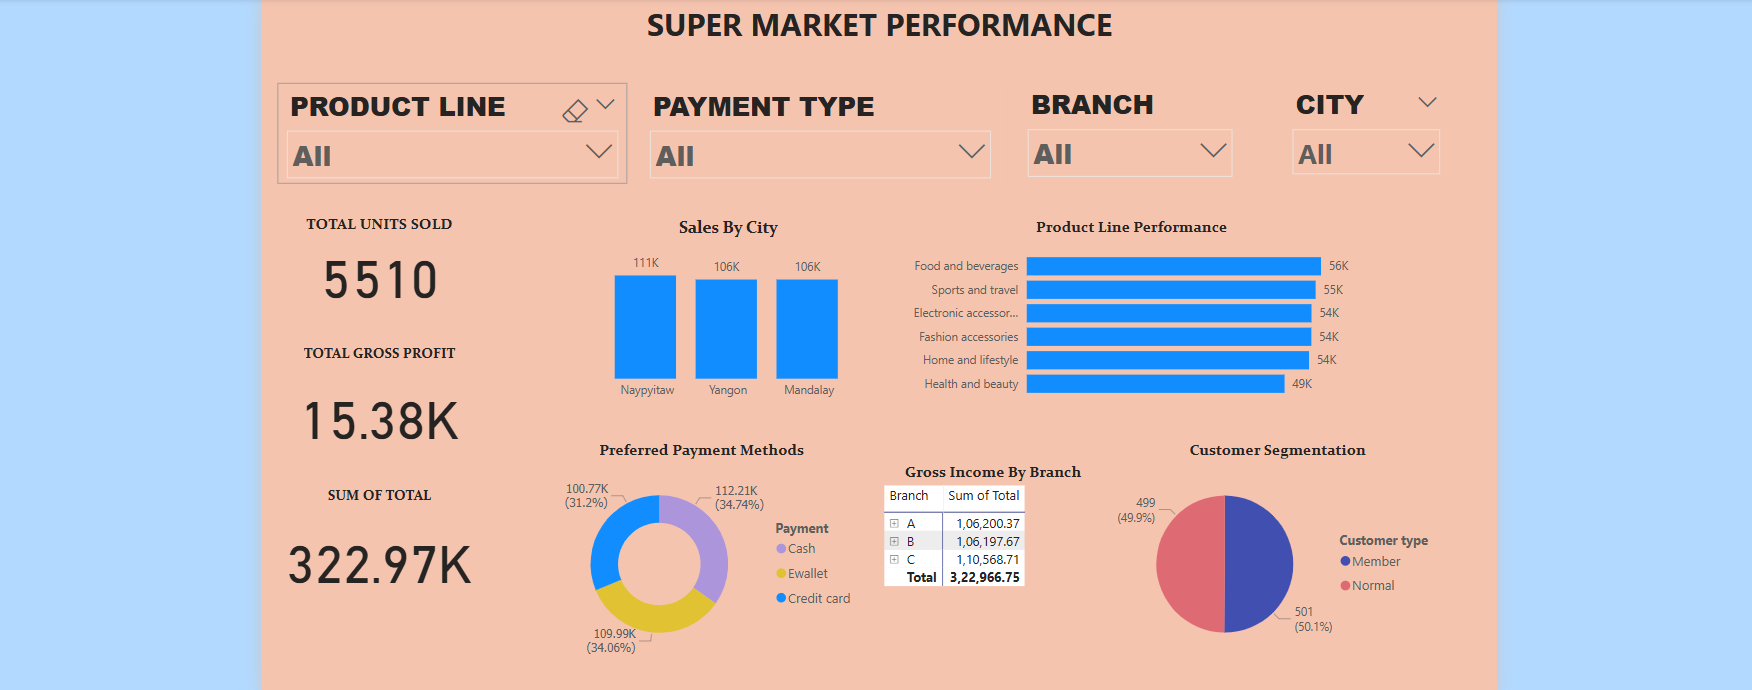

The page's visual inventory and layout, read from the dashboard file:
{"tool":"powerbi","page":{"name":"Page 1","canvas":[1280,720],"ordinal":0},"visuals":[{"type":"slicer","fields":{"Values":["supermarket_sales - Sheet1.City"]},"box":[1057.6,86.4,172.9,108.5],"z":0},{"type":"slicer","fields":{"Values":["supermarket_sales - Sheet1.Branch"]},"box":[784,86,232,104],"z":1000},{"type":"slicer","fields":{"Values":["supermarket_sales - Sheet1.Payment"]},"box":[393.2,88.1,372.9,108.5],"z":2000},{"type":"slicer","fields":{"Values":["supermarket_sales - Sheet1.Product line"]},"box":[16.9,88.1,362.7,105.1],"z":3000},{"type":"card","title":"SUM OF TOTAL","fields":{"Values":["Sum(supermarket_sales - Sheet1.Total)"]},"box":[17.3,505.8,211.5,130.8],"z":4000},{"type":"card","title":"TOTAL UNITS SOLD","fields":{"Values":["Sum(supermarket_sales - Sheet1.Quantity)"]},"box":[17.3,223.1,211.5,103.8],"z":5000},{"type":"card","title":"TOTAL GROSS PROFIT","fields":{"Values":["Sum(supermarket_sales - Sheet1.gross income)"]},"box":[17.3,359.6,211.5,125],"z":6000},{"type":"clusteredColumnChart","title":"Sales By City","fields":{"Category":["supermarket_sales - Sheet1.City"],"Y":["Sum(supermarket_sales - Sheet1.Total)"]},"box":[328.8,226.9,311.5,198.1],"z":8000},{"type":"barChart","title":" Product Line Performance","fields":{"Category":["supermarket_sales - Sheet1.Product line"],"Y":["Sum(supermarket_sales - Sheet1.Total)"]},"box":[659.6,226.9,484.6,198.1],"z":9000},{"type":"donutChart","title":"Preferred  Payment Methods","fields":{"Category":["supermarket_sales - Sheet1.Payment"],"Y":["Sum(supermarket_sales - Sheet1.Total)"]},"box":[288.5,457.7,336.5,238.5],"z":11000},{"type":"pieChart","title":"Customer Segmentation","fields":{"Category":["supermarket_sales - Sheet1.Customer type"],"Y":["CountNonNull(supermarket_sales - Sheet1.Customer type)"]},"box":[875,457.7,355.8,238.5],"z":12000},{"type":"pivotTable","title":"Gross Income By Branch","fields":{"Rows":["supermarket_sales - Sheet1.Branch","supermarket_sales - Sheet1.Product line"],"Values":["Sum(supermarket_sales - Sheet1.Total)"]},"box":[640.4,480.8,234.6,180.8],"z":15000},{"type":"textbox","box":[0,0,1280.8,86.5],"z":16000}]}

Visuals, with their boxes on the page's 1280x720 design canvas (x1, y1, x2, y2). These are canvas units, not pixel positions in the 1752x690 screenshot, which may show the page scaled, cropped or inside an application window:
slicer - supermarket_sales - Sheet1.City: x1=1058, y1=86, x2=1230, y2=195
slicer - supermarket_sales - Sheet1.Branch: x1=784, y1=86, x2=1016, y2=190
slicer - supermarket_sales - Sheet1.Payment: x1=393, y1=88, x2=766, y2=197
slicer - supermarket_sales - Sheet1.Product line: x1=17, y1=88, x2=380, y2=193
"SUM OF TOTAL" card: x1=17, y1=506, x2=229, y2=637
"TOTAL UNITS SOLD" card: x1=17, y1=223, x2=229, y2=327
"TOTAL GROSS PROFIT" card: x1=17, y1=360, x2=229, y2=485
"Sales By City" clusteredColumnChart: x1=329, y1=227, x2=640, y2=425
" Product Line Performance" barChart: x1=660, y1=227, x2=1144, y2=425
"Preferred  Payment Methods" donutChart: x1=288, y1=458, x2=625, y2=696
"Customer Segmentation" pieChart: x1=875, y1=458, x2=1231, y2=696
"Gross Income By Branch" pivotTable: x1=640, y1=481, x2=875, y2=662
textbox: x1=0, y1=0, x2=1281, y2=86
